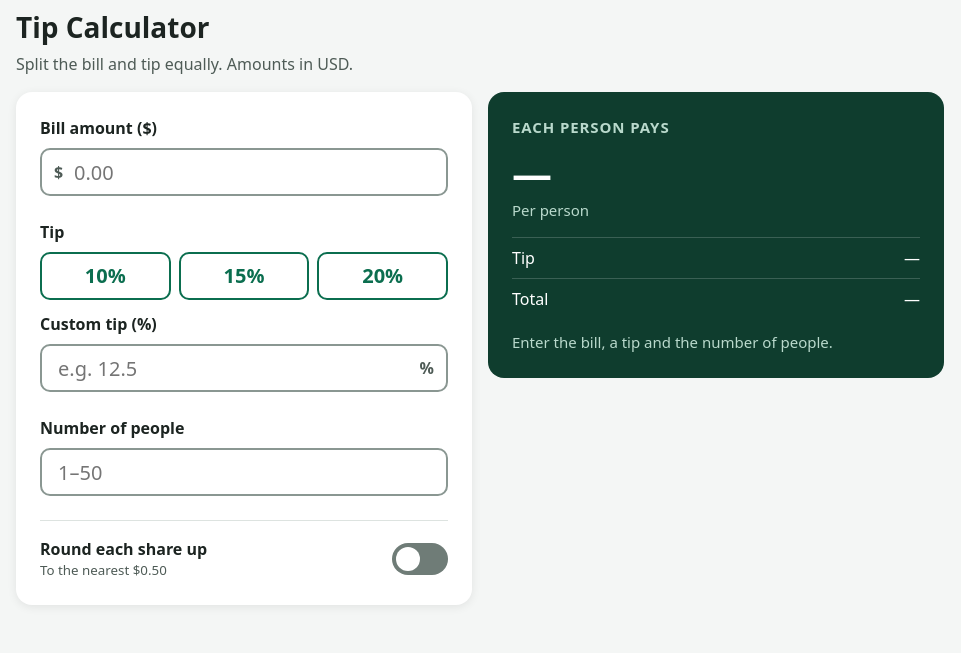
Test: S5: Clear messages instead of broken results › leaving the custom tip empty with no preset asks for a tip
The width and height of the screenshot is (961, 653).
Click the field labelled "Custom tip (%)". click: (244, 368)
box: [40,344,448,392]
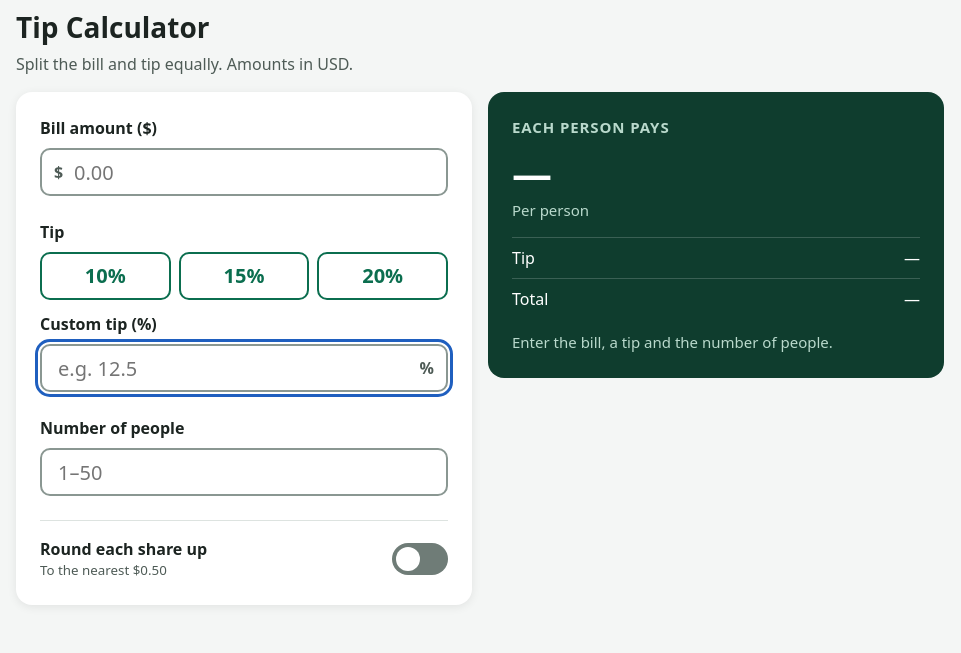
Press Tab
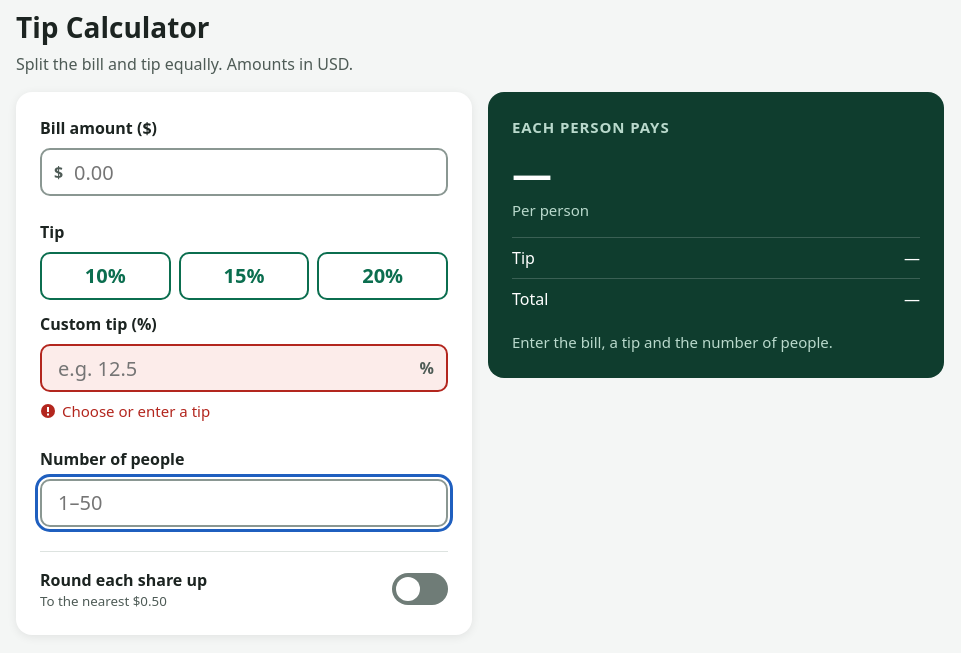
Now the element showing "Choose or enter a tip" is shown, box [40,401,210,421]
